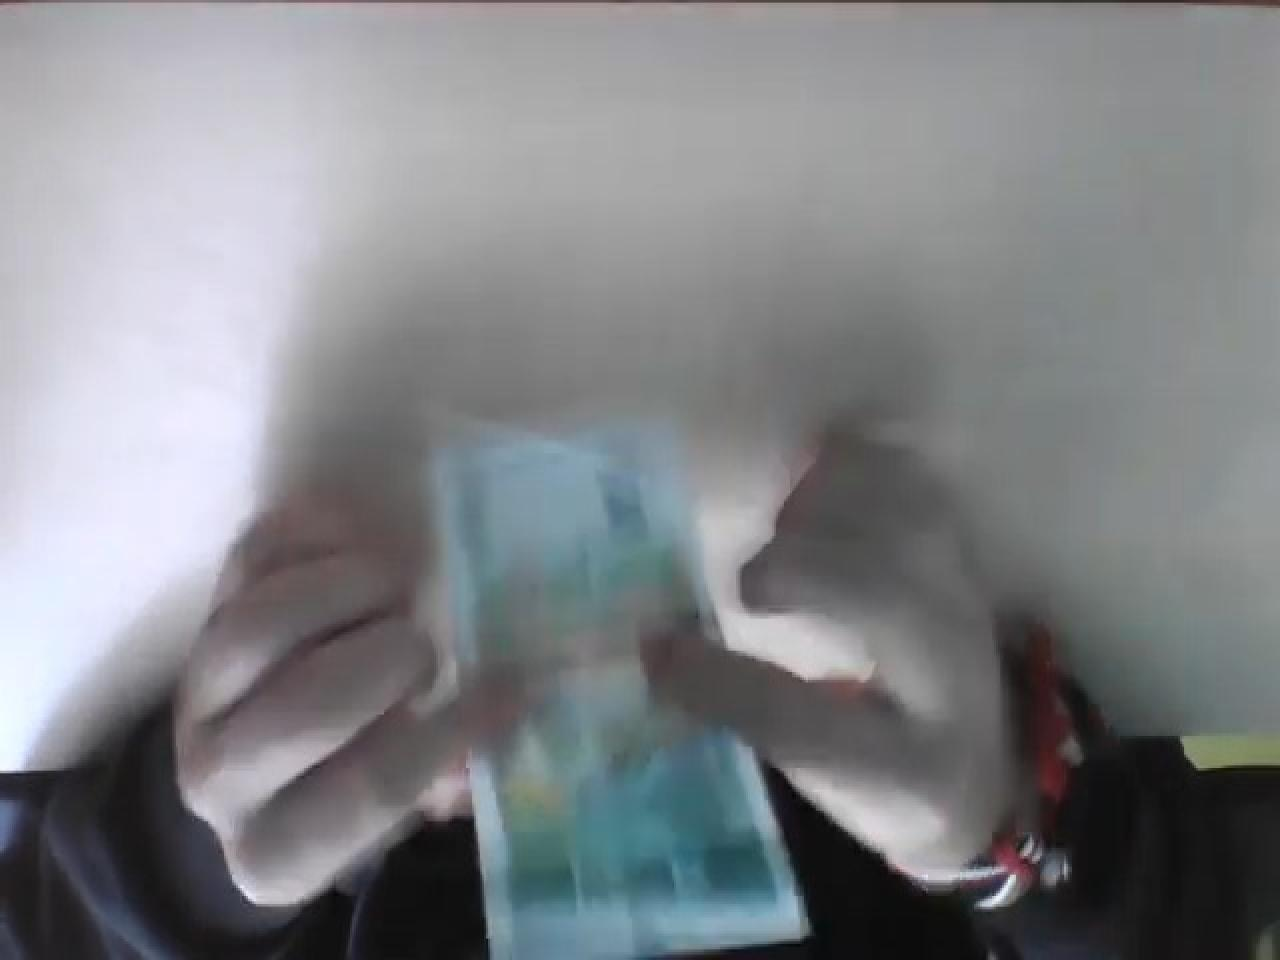100leva: (434, 424, 808, 960)
